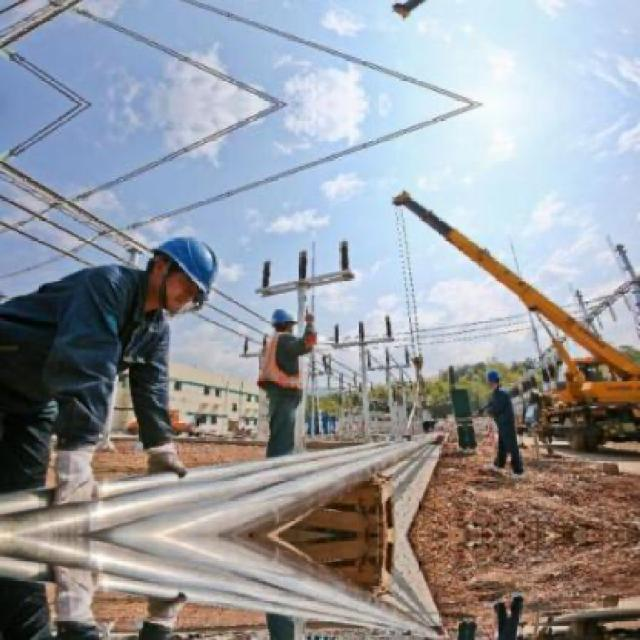helmet: (142, 227, 228, 316), (269, 303, 300, 334), (485, 366, 503, 392)
